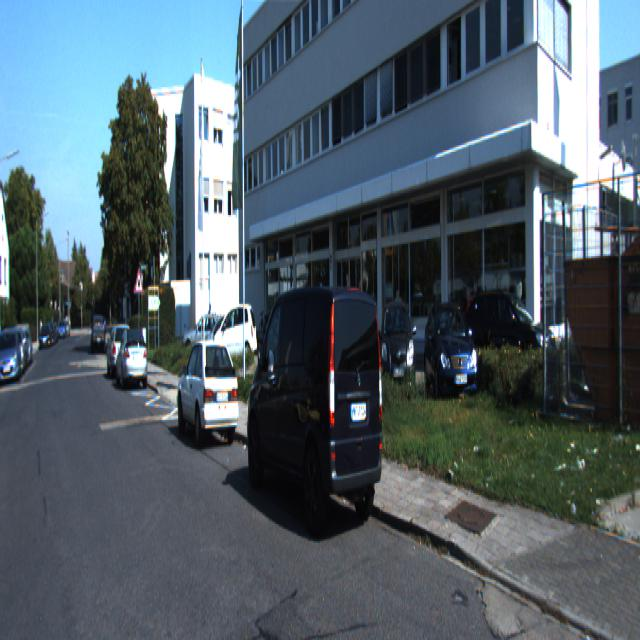Car: (242, 271, 386, 555), (173, 334, 240, 452), (423, 300, 480, 419), (377, 296, 417, 411), (209, 301, 257, 370), (115, 327, 147, 392), (0, 328, 22, 386), (88, 315, 102, 356)
